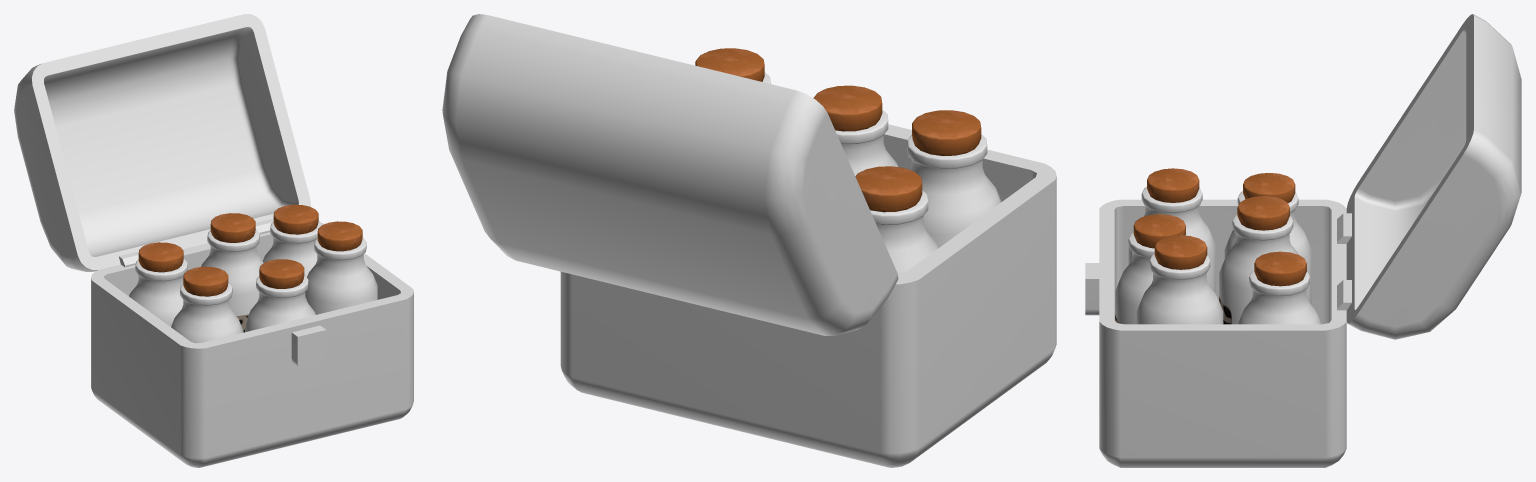
File: milkbox_golden.fbx
The picture shows the model from 3 angles, left to right: view 1: azimuth 30°, elevation 25°; view 2: azimuth 150°, elevation 25°; view 3: azimuth 270°, elevation 25°; orthographic projection. The views are drawn at different scales.
Visible parts, largest first — view 1: Cube.003; view 2: Cube.003; view 3: Cube.003.
Part boxes in pixels (bbox=[...]): Cube.003: bbox=[14, 14, 413, 467]; Cube.003: bbox=[442, 14, 1056, 467]; Cube.003: bbox=[1085, 14, 1521, 467].
Bounding box in the file's own units: 204 × 246 × 288.
